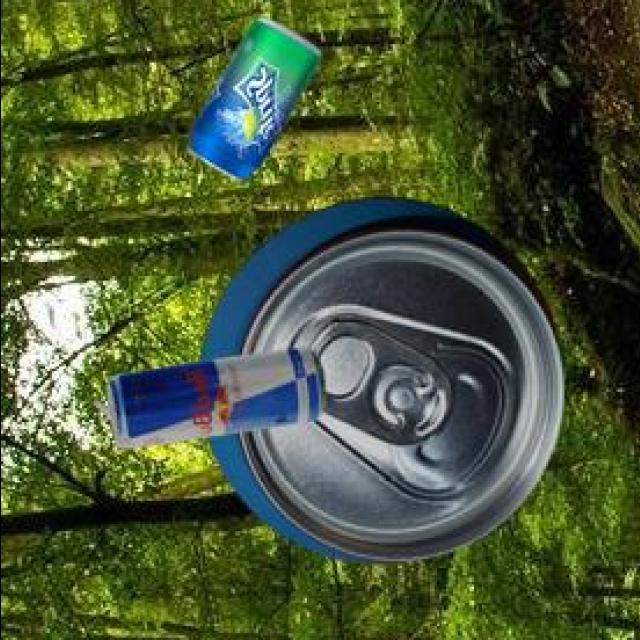logam: (198, 194, 560, 560), (92, 344, 321, 444), (184, 15, 317, 175)
